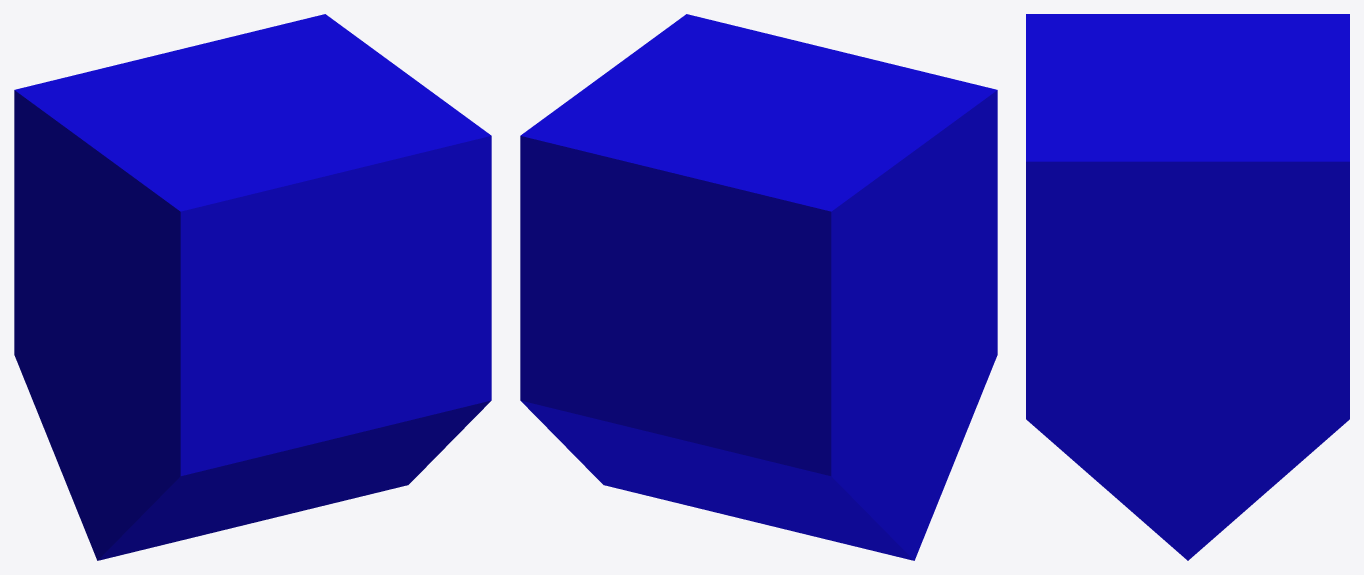
The model's file is shop.fbx.
The picture shows the model from 3 angles, left to right: view 1: azimuth 30°, elevation 25°; view 2: azimuth 150°, elevation 25°; view 3: azimuth 270°, elevation 25°; orthographic projection. The views are drawn at different scales.
Parts seen in each view (by area): view 1: Cube; view 2: Cube; view 3: Cube.
Boxes of the visible parts, x1,y1,x2,y2 form: Cube: (14, 14, 491, 560); Cube: (520, 14, 997, 560); Cube: (1026, 14, 1349, 560).
Bounding box in the file's own units: 2138 × 2694 × 1980.
